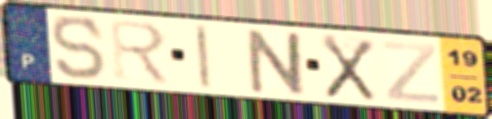I: (192, 23, 214, 91)
N: (245, 27, 310, 99)
R: (106, 17, 175, 88)
S: (49, 13, 110, 82)
X: (318, 32, 378, 104)
Z: (379, 39, 441, 106)
